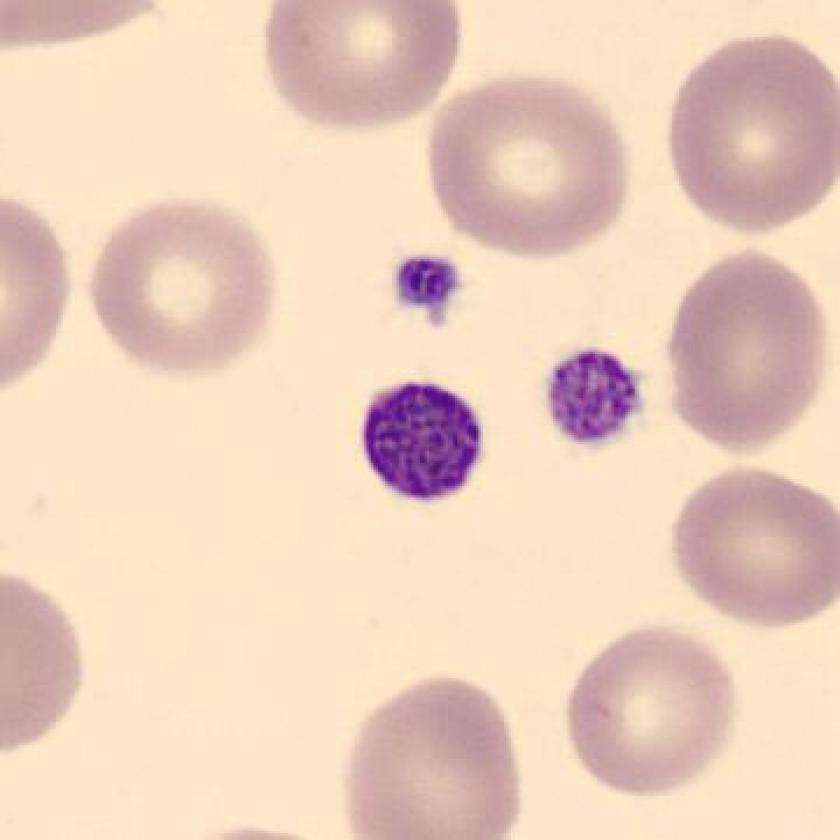platelets: (349, 376, 500, 515), (533, 336, 657, 464), (381, 242, 475, 339)
